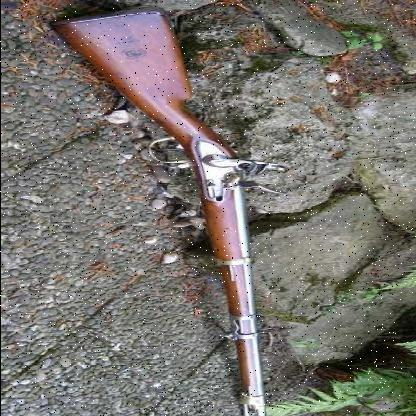rifle: (51, 9, 286, 416)
